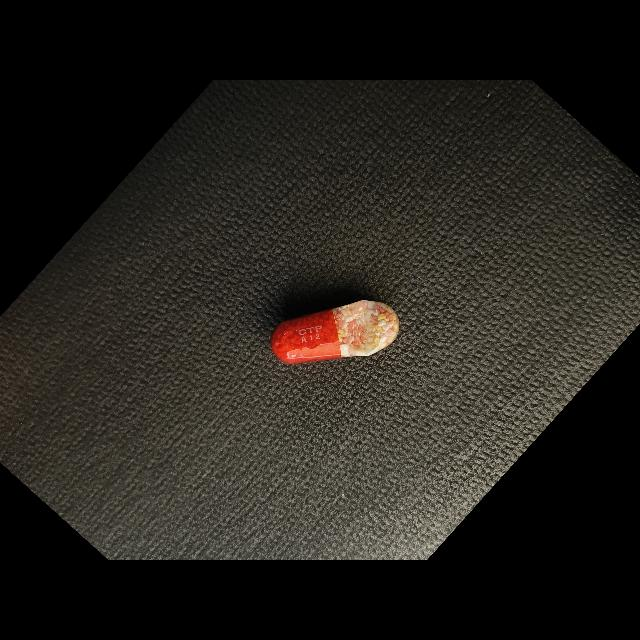Defective Capsule: (271, 300, 399, 364)
